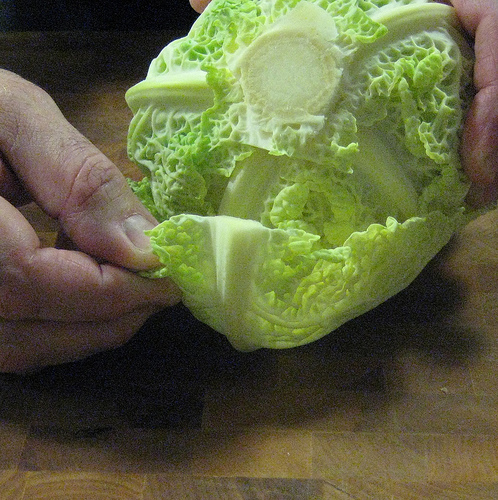cabbage: (123, 0, 471, 352)
